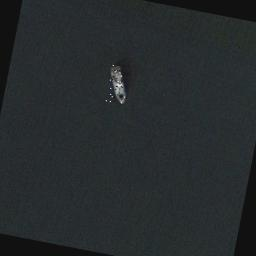boat: (104, 64, 132, 104)
